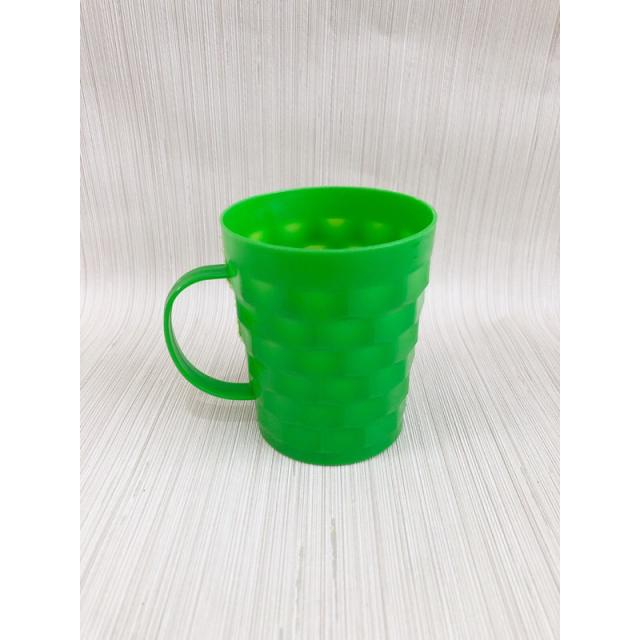Cangkir: (148, 176, 462, 477)
